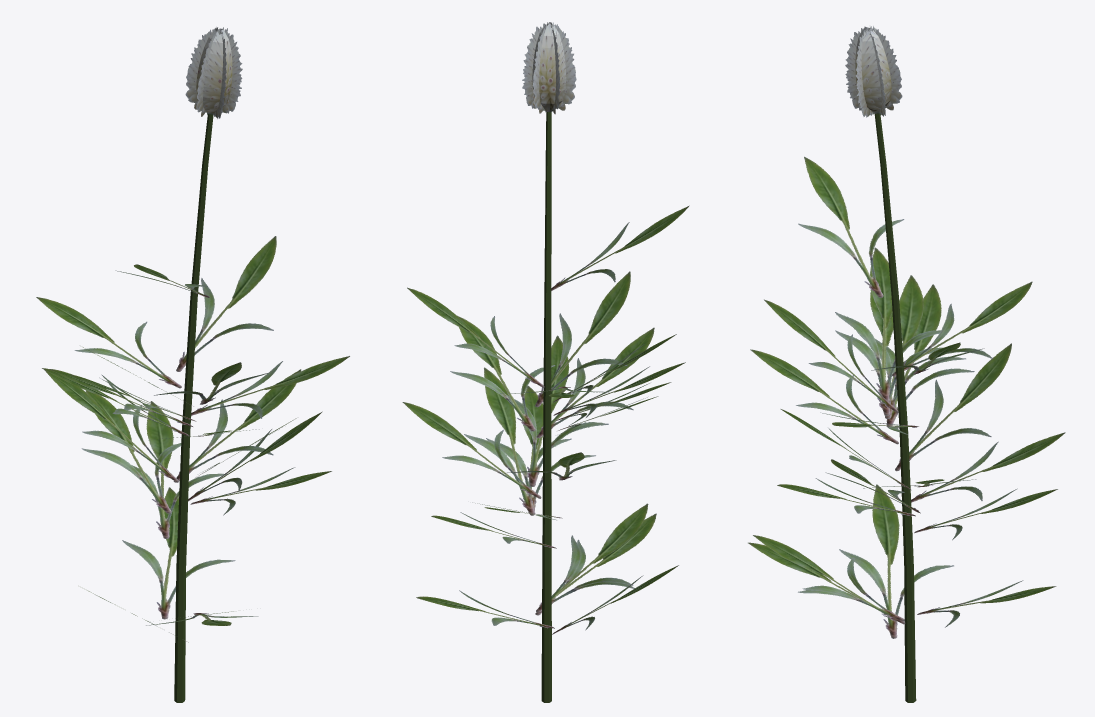
Rendered from category_mesh_flower_6_v2.glb.
3 renders of one model, left to right at view 1: azimuth 30°, elevation 25°; view 2: azimuth 150°, elevation 25°; view 3: azimuth 270°, elevation 25°, orthographic. The views are drawn at different scales.
Parts seen in each view (by area): view 1: category_mesh_flower_6_v2; view 2: category_mesh_flower_6_v2; view 3: category_mesh_flower_6_v2.
Boxes of the visible parts, x1=… form: category_mesh_flower_6_v2: x1=36, y1=27, x2=349, y2=702; category_mesh_flower_6_v2: x1=402, y1=22, x2=689, y2=702; category_mesh_flower_6_v2: x1=748, y1=26, x2=1065, y2=702.
Bounding box in the file's own units: 0.1972 × 0.4454 × 0.2041.
Materials: 1 (1 with a texture image).
